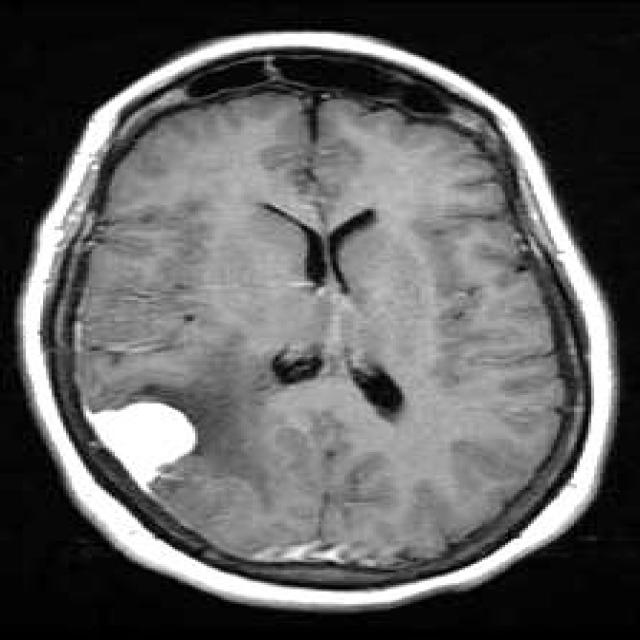Tumor-Cell: (87, 391, 203, 481)
